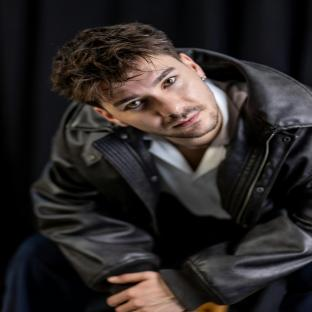Human: (2, 23, 312, 312)
